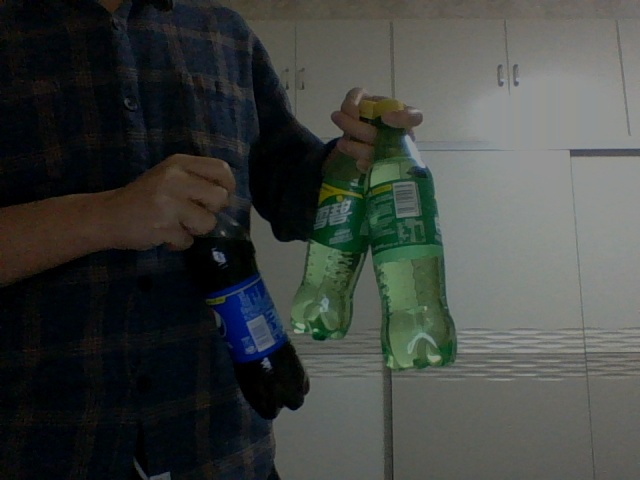Cola: (194, 210, 310, 420)
Sprite: (364, 100, 459, 371), (288, 100, 378, 339)
